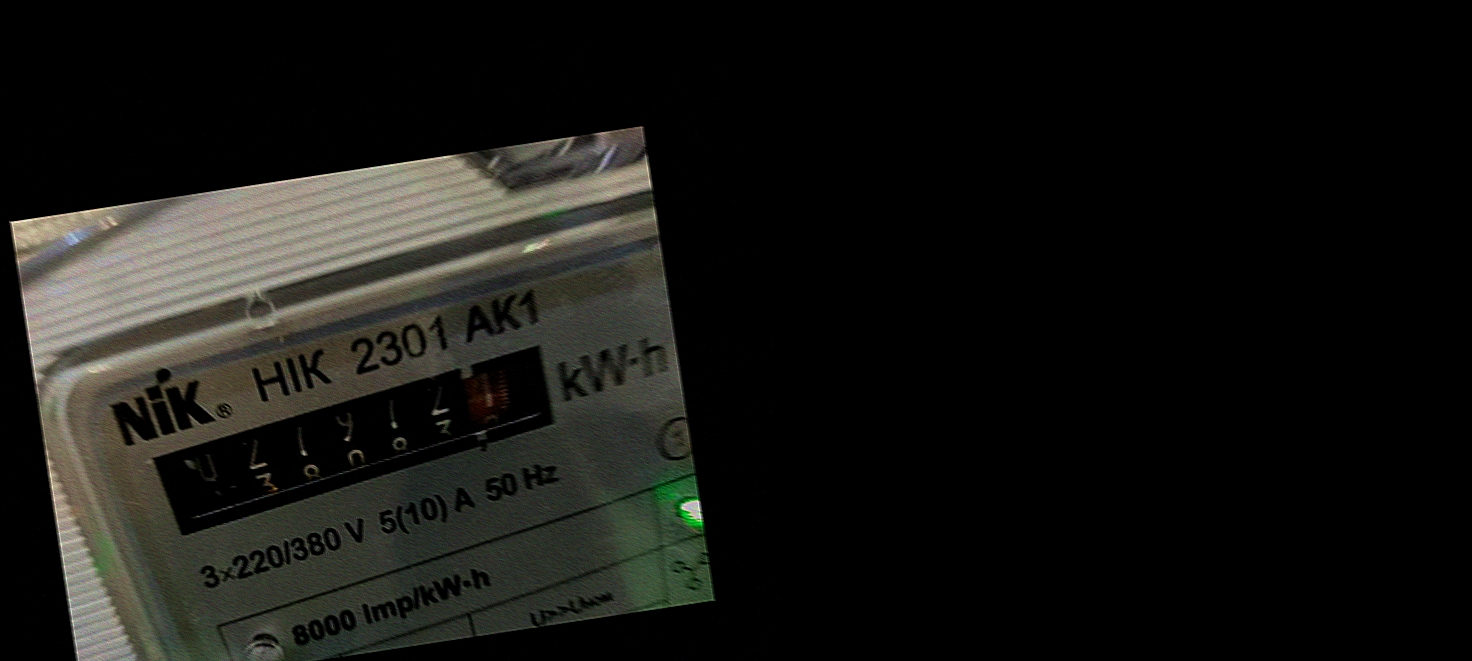0: (189, 446, 222, 485)
1: (473, 366, 501, 412)
2: (236, 429, 270, 472), (420, 377, 453, 418)
7: (374, 390, 406, 434), (285, 420, 313, 460)
9: (330, 405, 361, 444)
screen: (126, 330, 596, 550)
